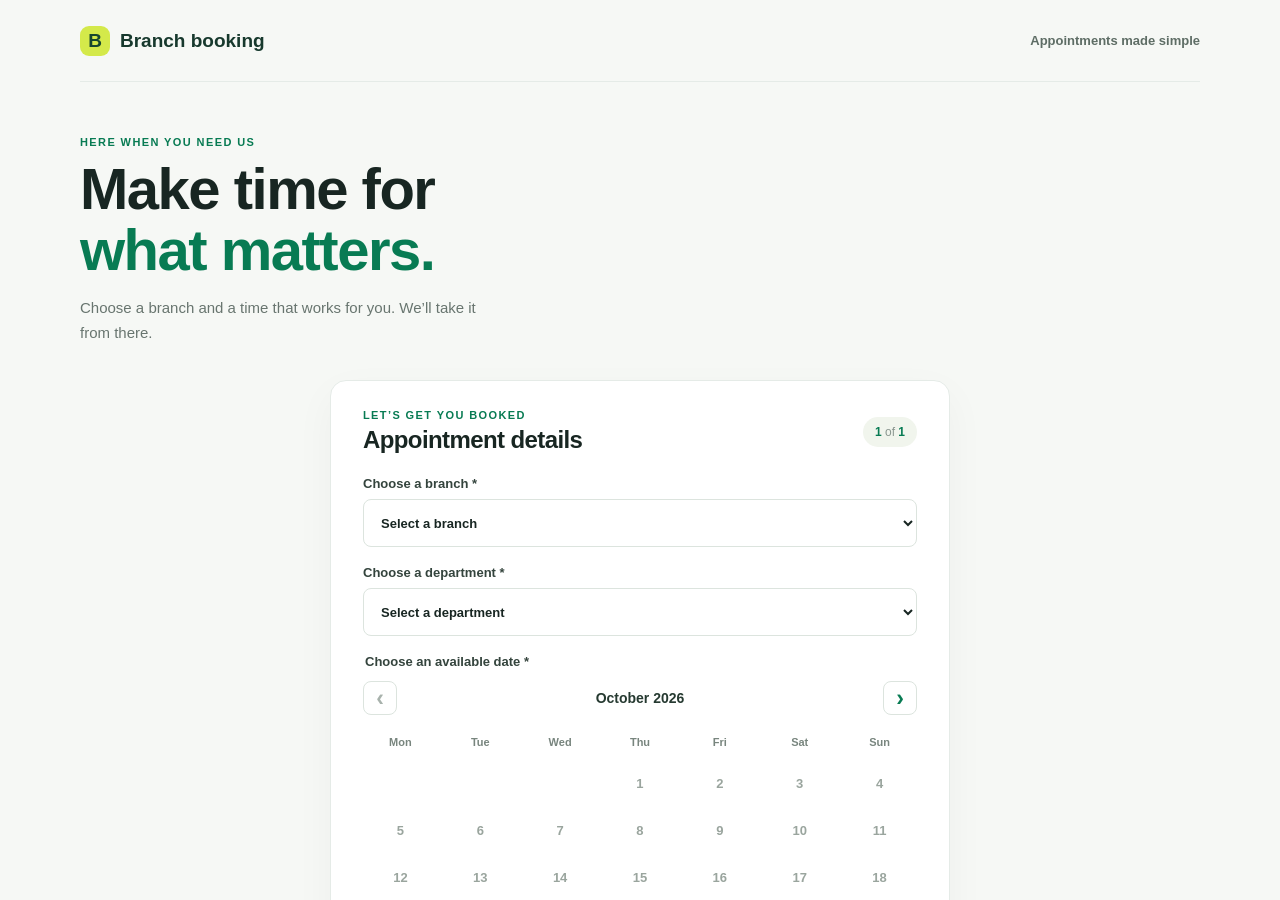
Test case: BookingPage › lets the user browse forward when there are no available dates
The image size is (1280, 900).
Click the button named "Next month".
click(900, 698)  # box [883,681,917,715]
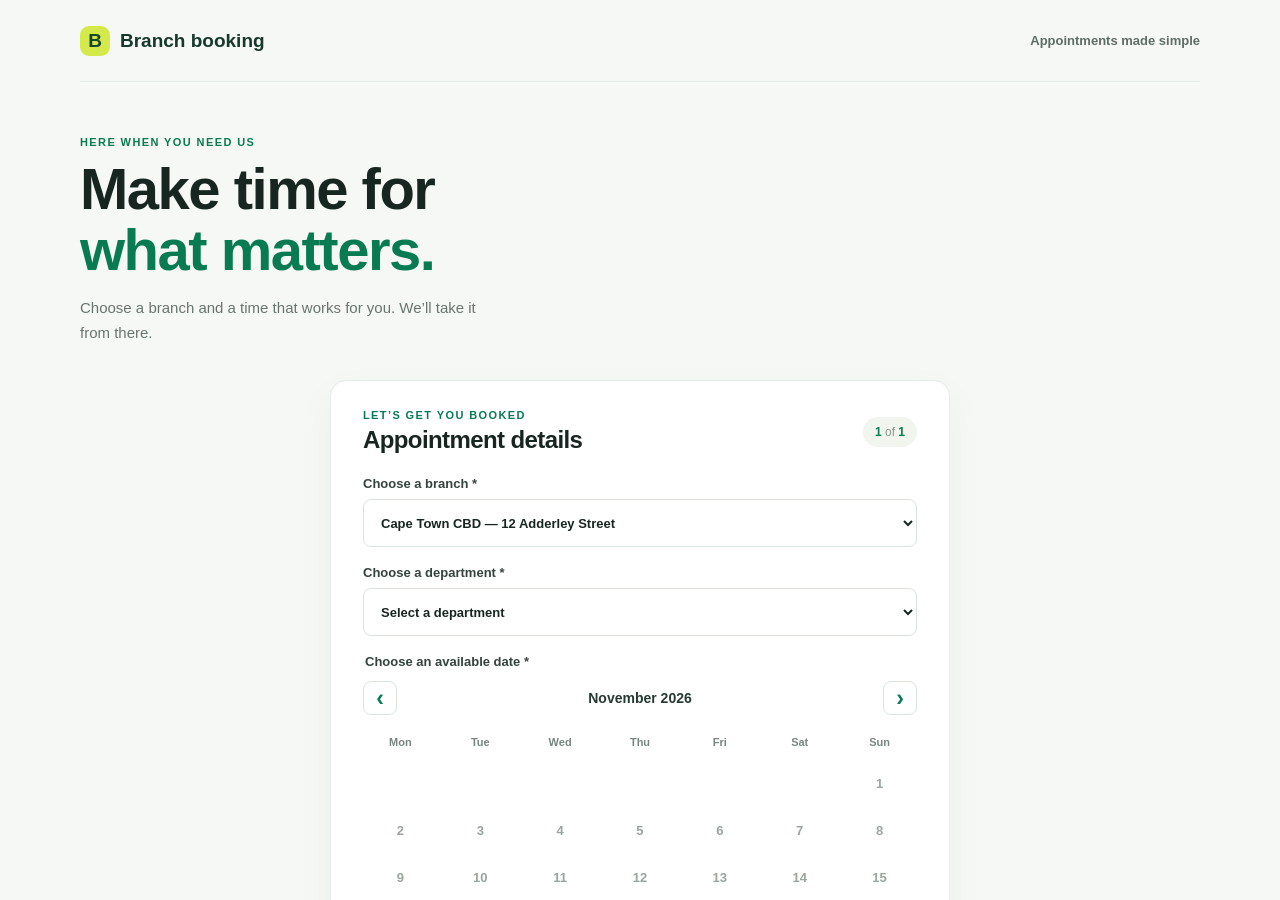
Expected: the button named "Previous month" is enabled, [363,681,397,715]
